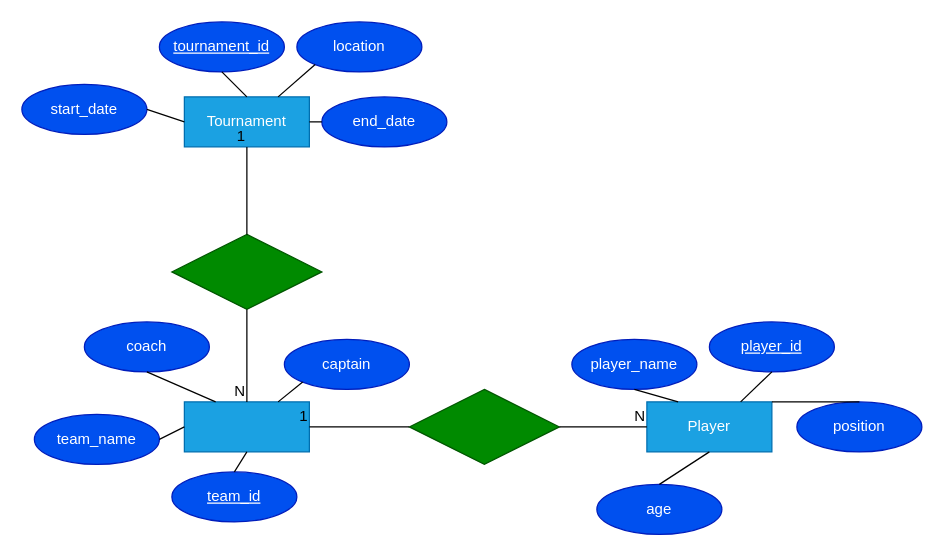
The diagram is 944 pixels wide and 556 high, and some of its shapes have lost their labels. Here are the shapes that lost their labels. From the top down, the box of each, then its label:
(171, 233, 322, 309): plays in
(183, 401, 309, 452): Team
(408, 388, 559, 464): has
